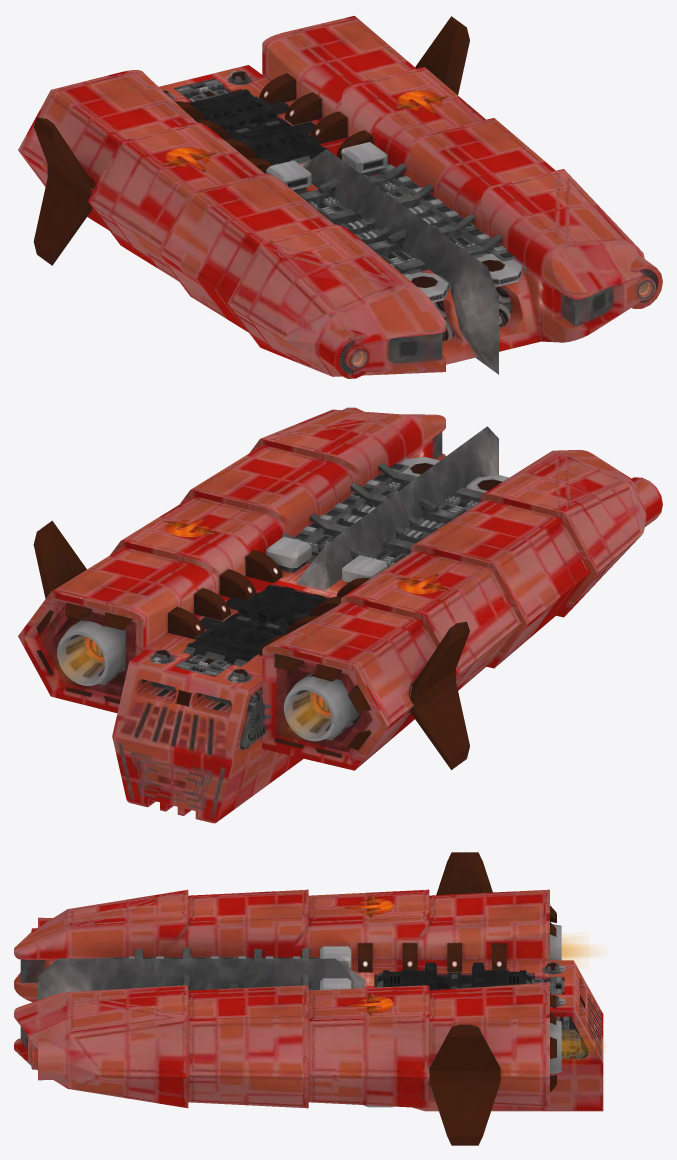
The model's file is retribution_dvaered.gltf.
3 views of the same model, one above another, from view 1: azimuth 30°, elevation 25°; view 2: azimuth 150°, elevation 25°; view 3: azimuth 270°, elevation 25° (orthographic). The views are drawn at different scales.
Parts seen in each view (by area): view 1: Base Glow; view 2: Base Glow, Cylinder.003; view 3: Base Glow, Cylinder.003.
Part boxes in pixels (x1,y1,x2,y2): Base Glow: (18,15,662,378); Base Glow: (18,407,662,823); Cylinder.003: (60,636,330,732); Base Glow: (14,852,603,1145); Cylinder.003: (561,934,591,1063).
Size of the model in its own units: 6.97 by 2.95 by 10.9.
2 materials, 2 textured.
